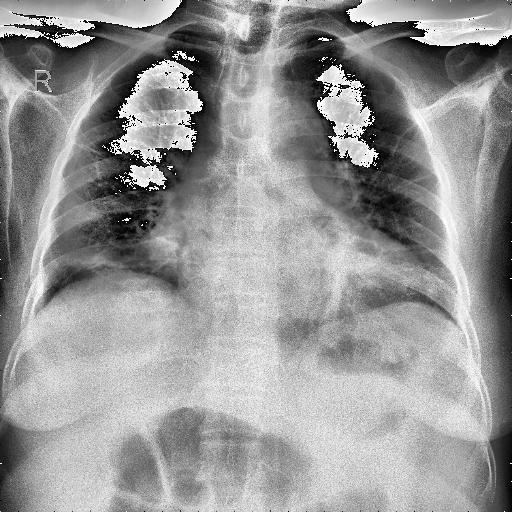0- Aortic enlargement: (256, 91, 332, 185), (250, 87, 323, 179), (254, 90, 332, 166)
11- Pleural thickening: (179, 20, 221, 40), (285, 30, 329, 47)
13- Pulmonary fibrosis: (72, 136, 112, 191), (48, 250, 133, 272), (68, 251, 138, 270), (391, 168, 438, 191), (401, 167, 435, 186), (70, 138, 104, 155), (71, 138, 103, 156)
3- Cardiomegaly: (173, 240, 426, 322), (171, 232, 422, 306), (175, 248, 430, 319)
7- Lung Opacity: (50, 248, 126, 276)
